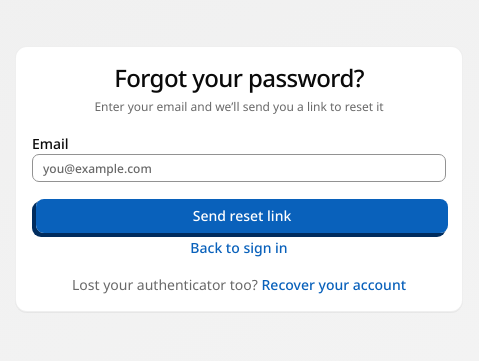
Test case: requires a non-empty email before submitting
Click the button "Send reset link".
click(242, 216)  # box [35, 198, 449, 234]
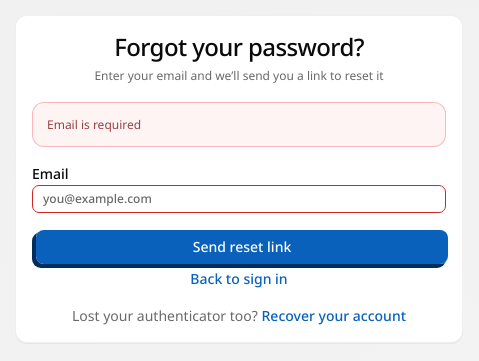
Check: the text "Email is required" is shown, box [47, 116, 141, 133]
